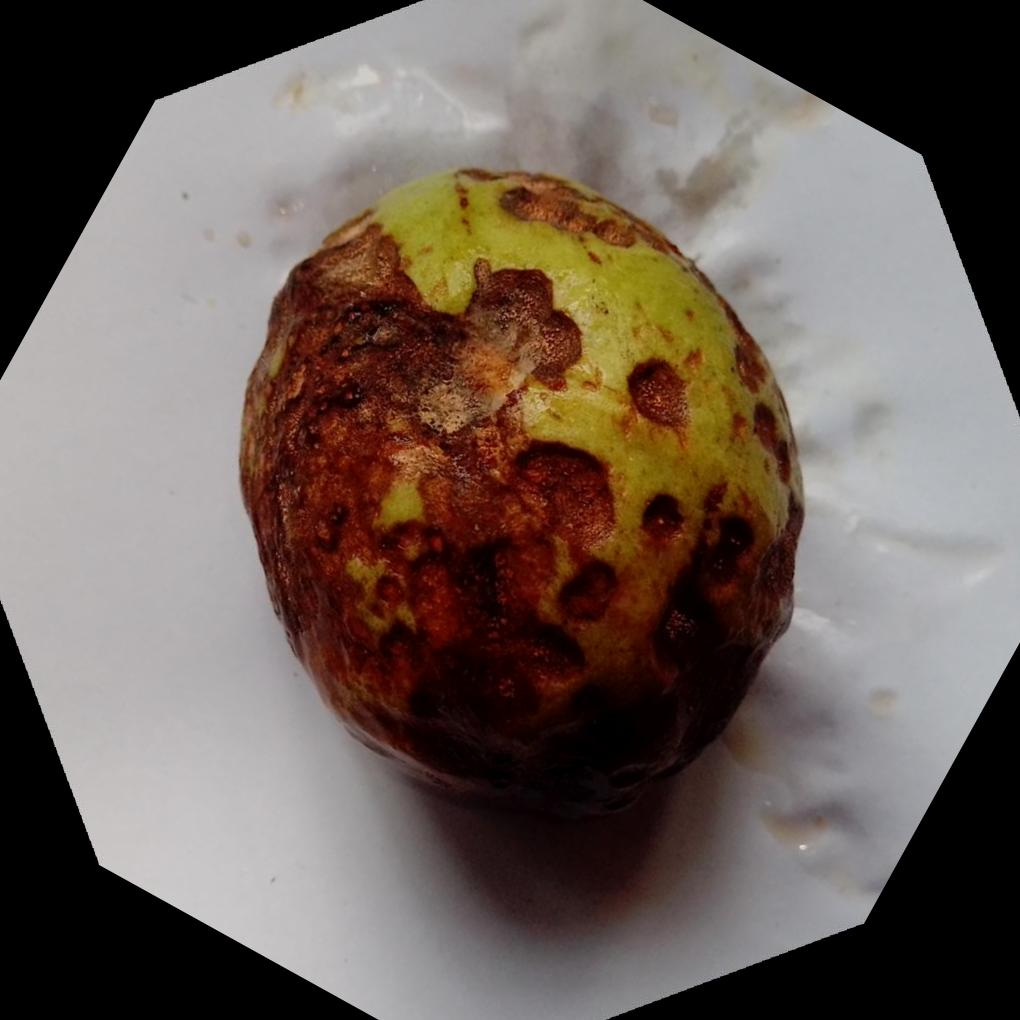FreshOrange: (233, 162, 805, 822)
